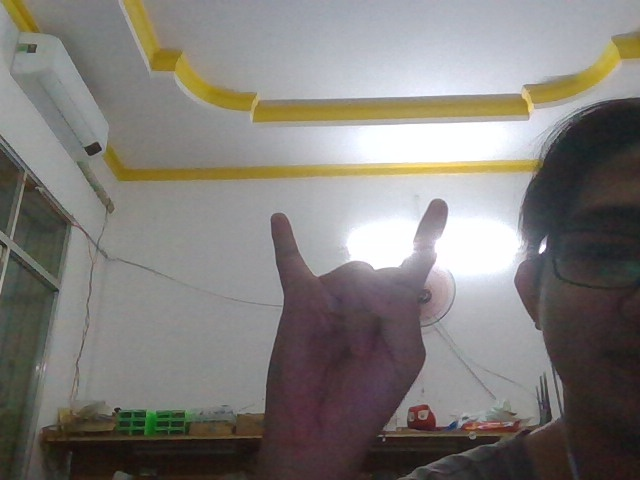yolo: (241, 180, 453, 438)
